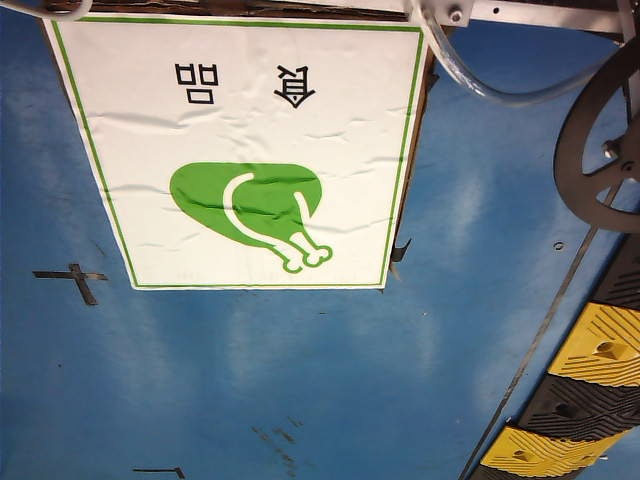Cube_food: (132, 39, 390, 286)
